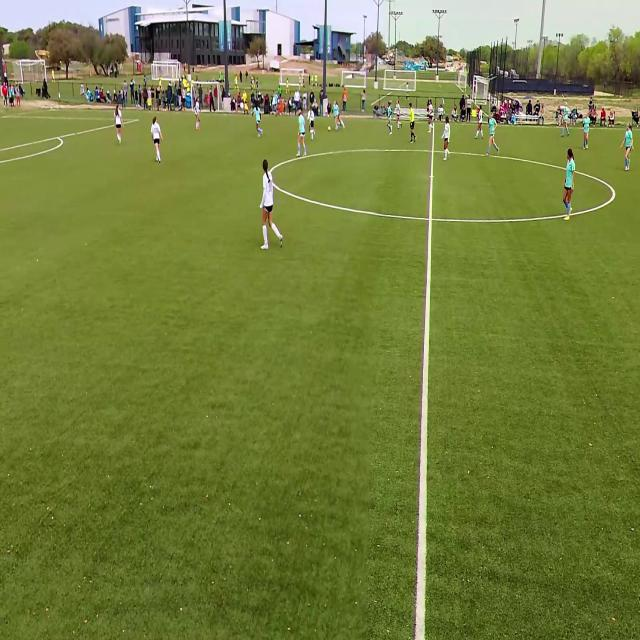ball: (328, 126, 332, 131)
team1: (565, 151, 578, 223), (623, 125, 634, 170), (298, 112, 308, 156), (488, 114, 498, 157), (562, 101, 571, 138), (254, 106, 263, 140), (582, 116, 590, 152), (386, 101, 392, 140), (333, 102, 339, 132)
team2: (257, 157, 283, 251), (152, 116, 165, 164), (442, 119, 452, 160), (116, 103, 125, 146), (426, 101, 434, 139), (195, 95, 202, 134), (395, 98, 403, 132), (309, 108, 316, 143), (477, 107, 484, 140)
